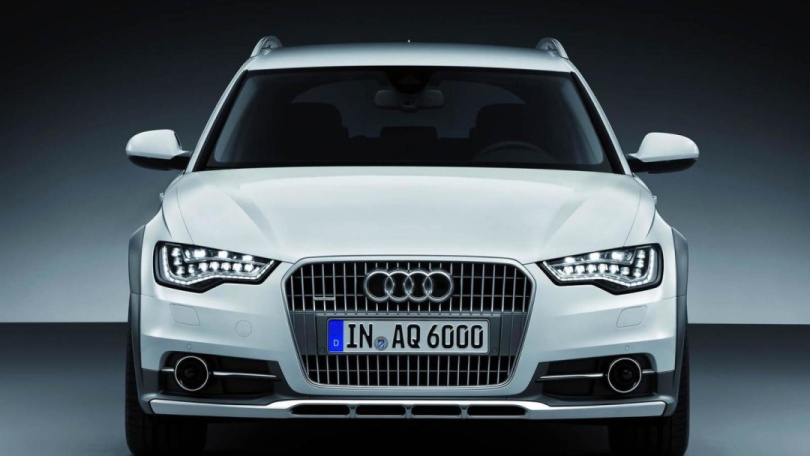audi: (358, 268, 462, 310)
